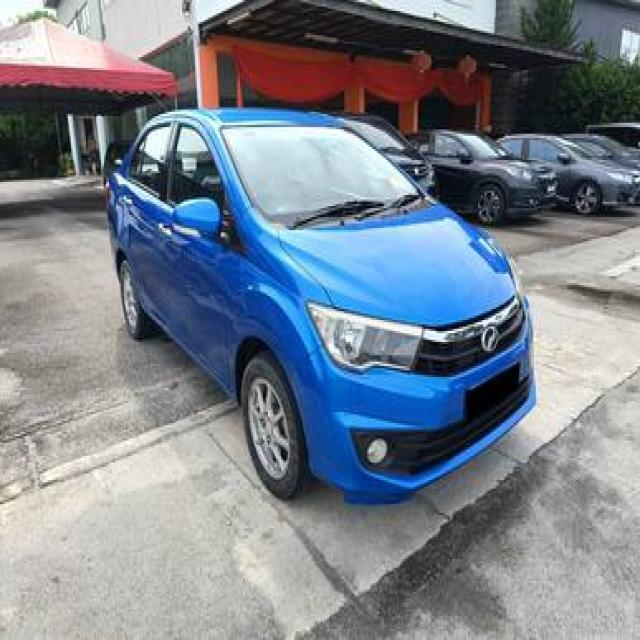PeroduaBezza: (102, 105, 538, 505)
